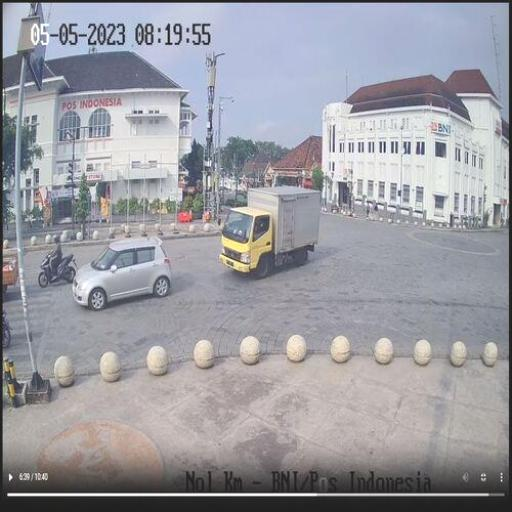mobil: (220, 185, 321, 276), (71, 237, 173, 313)
motor: (38, 250, 81, 289)
